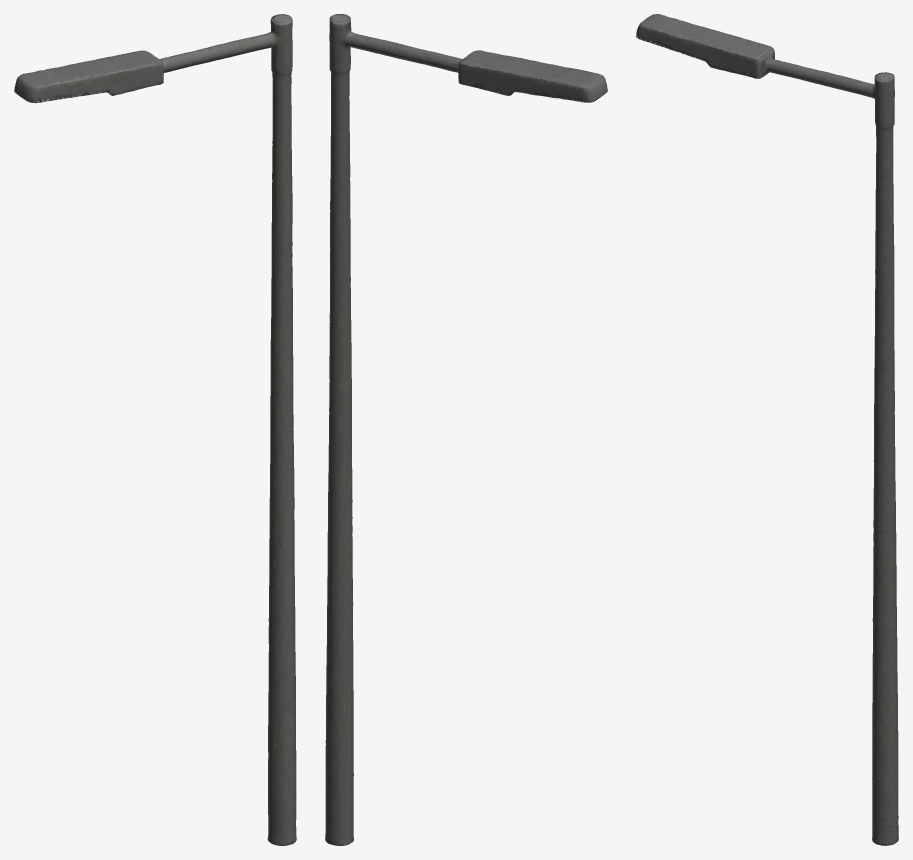
Rendered from StreetLampLed.glb.
3 views of the same model, side by side, from view 1: azimuth 30°, elevation 25°; view 2: azimuth 150°, elevation 25°; view 3: azimuth 330°, elevation 25° (orthographic). The views are drawn at different scales.
Parts seen in each view (by area): view 1: texture_mapping; view 2: texture_mapping; view 3: texture_mapping.
Boxes of the visible parts, left/top/right/bottom form: texture_mapping: left=14, top=14, right=296, bottom=845; texture_mapping: left=325, top=14, right=607, bottom=845; texture_mapping: left=636, top=14, right=898, bottom=845.
Size of the model in its own units: 0.3491 by 1 by 0.0414.
1 material, 1 textured.
